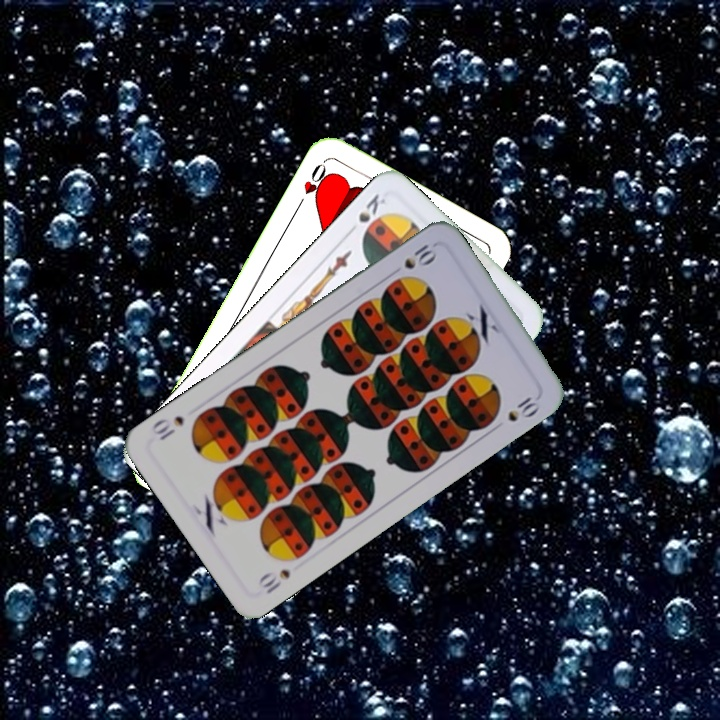HO: (292, 157, 334, 211)
S10: (386, 240, 439, 279), (254, 565, 293, 597)
SK: (354, 189, 391, 226)
